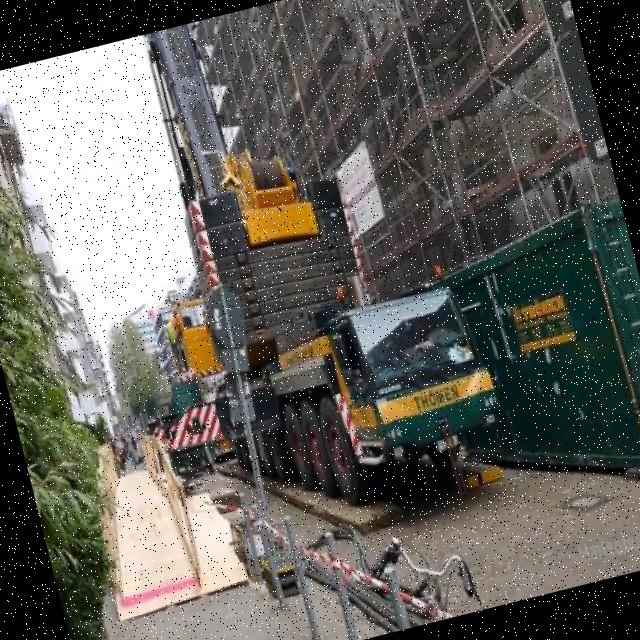Mobile Crane: (54, 0, 514, 555)
